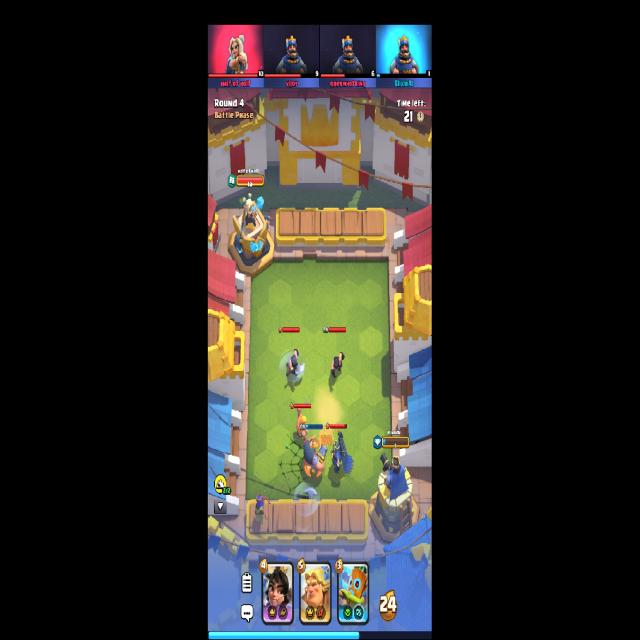archer_queen: (254, 488, 271, 521)
barbarian: (296, 409, 309, 438)
card_dart_goblin: (338, 562, 370, 625)
card_golden_knight: (299, 561, 332, 625)
card_princess: (262, 562, 294, 624)
executioner: (283, 346, 305, 382), (330, 353, 347, 379)
royal_giant: (302, 434, 328, 478)
skeleton_king: (333, 432, 354, 476)
